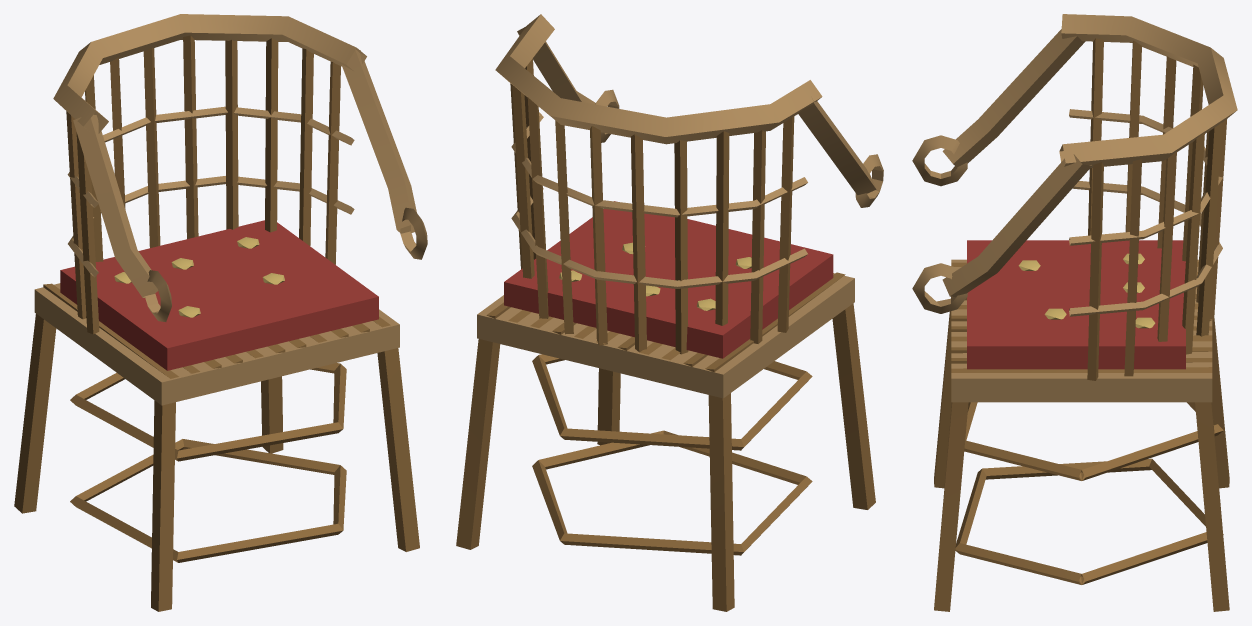
Rendered from ghe_may.glb.
3 views of the same model, side by side, from view 1: azimuth 30°, elevation 25°; view 2: azimuth 150°, elevation 25°; view 3: azimuth 270°, elevation 25° (orthographic). The views are drawn at different scales.
Visible parts, largest first — view 1: ghe_may; view 2: ghe_may; view 3: ghe_may.
Boxes of the visible parts, x1,y1,x2,y2 form: ghe_may: (14,14,427,611); ghe_may: (456,14,883,611); ghe_may: (912,14,1237,611).
Size of the model in its own units: 0.6717 by 0.9908 by 0.6239.
